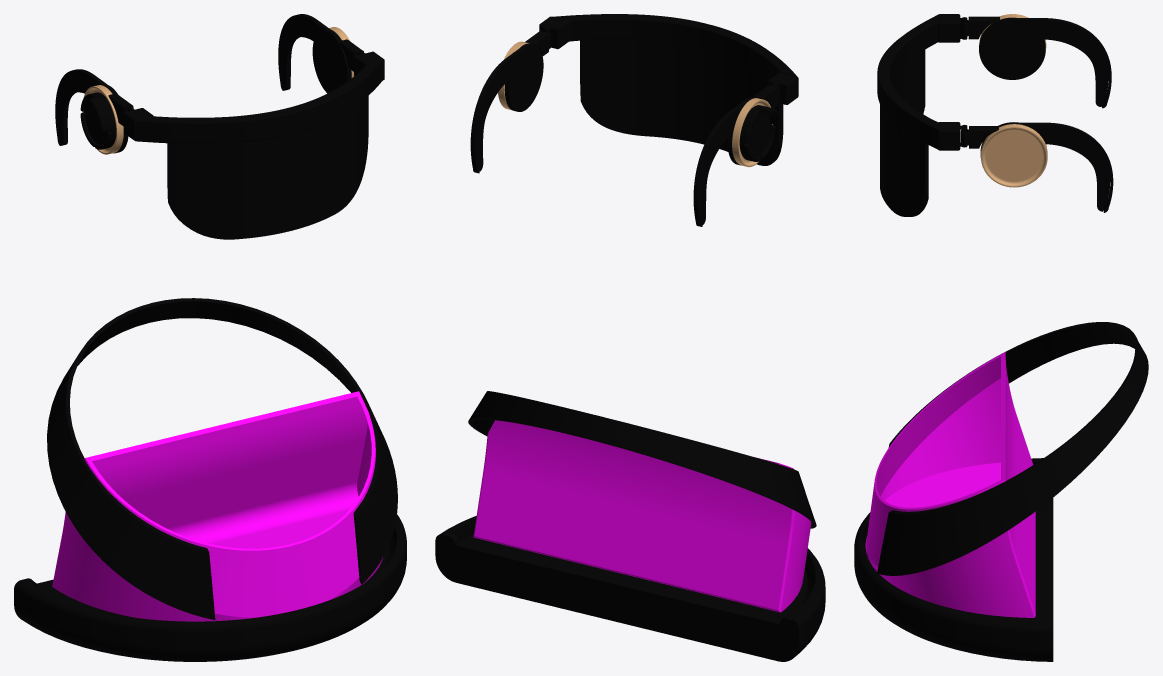
File: Position.glb
The picture shows the model from 3 angles, left to right: view 1: azimuth 30°, elevation 25°; view 2: azimuth 150°, elevation 25°; view 3: azimuth 270°, elevation 25°; orthographic projection. The views are drawn at different scales.
Visible parts, largest first — view 1: Recess(93EA466E-76ED-4497-8DD2-DC9EE28DEFDC), Circle(48C72C58-2843-4086-B1C4-9AD403E86B9D), Visor(F46359D1-3A03-4F06-86E0-AD8CA291662B), Base(F24A9A87-33AC-4DAC-9F74-06F11ED7CB6B), Frame(901472B5-F3E3-4CA0-ACE4-C1DEC0D0175B), Hook(BB2D23D6-5C75-414D-B4D9-A2534A7E2595), Hook(AC767EF7-36E8-47AD-91CE-390286561FB7), Padding(55F92BBA-3FA5-4974-A3C4-1A050CFF2A2B), Padding(F493D06C-EA97-4AE0-B4CB-ECDF65379033), UI_handle(E003D4E5-C9AF-44C9-8223-BCC0273ED70E), UI_frame(22C7A8AA-89CB-4834-A695-0EA211E8F5C3); view 2: Recess(93EA466E-76ED-4497-8DD2-DC9EE28DEFDC), Base(F24A9A87-33AC-4DAC-9F74-06F11ED7CB6B), Visor(F46359D1-3A03-4F06-86E0-AD8CA291662B), Circle(48C72C58-2843-4086-B1C4-9AD403E86B9D), Frame(901472B5-F3E3-4CA0-ACE4-C1DEC0D0175B), Hook(BB2D23D6-5C75-414D-B4D9-A2534A7E2595), Hook(AC767EF7-36E8-47AD-91CE-390286561FB7), UI_handle(E003D4E5-C9AF-44C9-8223-BCC0273ED70E), UI_frame(22C7A8AA-89CB-4834-A695-0EA211E8F5C3), UI_screen(0D7ABA6A-1DF7-40E4-BDED-8E9292BF28E9), Padding(F493D06C-EA97-4AE0-B4CB-ECDF65379033), Padding(55F92BBA-3FA5-4974-A3C4-1A050CFF2A2B); view 3: Recess(93EA466E-76ED-4497-8DD2-DC9EE28DEFDC), Circle(48C72C58-2843-4086-B1C4-9AD403E86B9D), Base(F24A9A87-33AC-4DAC-9F74-06F11ED7CB6B), Visor(F46359D1-3A03-4F06-86E0-AD8CA291662B), Frame(901472B5-F3E3-4CA0-ACE4-C1DEC0D0175B), Hook(AC767EF7-36E8-47AD-91CE-390286561FB7), UI_frame(3E457CC0-70AE-49CF-ACC5-E6AD292F110B), Hook(BB2D23D6-5C75-414D-B4D9-A2534A7E2595), Padding(F493D06C-EA97-4AE0-B4CB-ECDF65379033), Padding(55F92BBA-3FA5-4974-A3C4-1A050CFF2A2B), Hook(23E9B219-0125-4E2A-BB02-2A49ACC30528), Hook(5E3CC680-7300-47B7-B143-B78EE9BBFE5B).
Part boxes in pixels (bbox=[...]): Recess(93EA466E-76ED-4497-8DD2-DC9EE28DEFDC): bbox=[52, 391, 383, 621]; Circle(48C72C58-2843-4086-B1C4-9AD403E86B9D): bbox=[47, 298, 397, 619]; Visor(F46359D1-3A03-4F06-86E0-AD8CA291662B): bbox=[167, 96, 368, 239]; Base(F24A9A87-33AC-4DAC-9F74-06F11ED7CB6B): bbox=[14, 514, 406, 661]; Frame(901472B5-F3E3-4CA0-ACE4-C1DEC0D0175B): bbox=[123, 50, 384, 143]; Hook(BB2D23D6-5C75-414D-B4D9-A2534A7E2595): bbox=[278, 14, 351, 93]; Hook(AC767EF7-36E8-47AD-91CE-390286561FB7): bbox=[55, 69, 128, 153]; Padding(55F92BBA-3FA5-4974-A3C4-1A050CFF2A2B): bbox=[280, 28, 315, 90]; Padding(F493D06C-EA97-4AE0-B4CB-ECDF65379033): bbox=[57, 83, 87, 145]; UI_handle(E003D4E5-C9AF-44C9-8223-BCC0273ED70E): bbox=[80, 92, 116, 149]; UI_frame(22C7A8AA-89CB-4834-A695-0EA211E8F5C3): bbox=[82, 85, 123, 154]; Recess(93EA466E-76ED-4497-8DD2-DC9EE28DEFDC): bbox=[473, 420, 811, 612]; Base(F24A9A87-33AC-4DAC-9F74-06F11ED7CB6B): bbox=[435, 516, 825, 661]; Visor(F46359D1-3A03-4F06-86E0-AD8CA291662B): bbox=[580, 39, 783, 165]; Circle(48C72C58-2843-4086-B1C4-9AD403E86B9D): bbox=[468, 391, 816, 528]; Frame(901472B5-F3E3-4CA0-ACE4-C1DEC0D0175B): bbox=[539, 14, 798, 104]; Hook(BB2D23D6-5C75-414D-B4D9-A2534A7E2595): bbox=[470, 43, 543, 173]; Hook(AC767EF7-36E8-47AD-91CE-390286561FB7): bbox=[693, 97, 754, 226]; UI_handle(E003D4E5-C9AF-44C9-8223-BCC0273ED70E): bbox=[739, 105, 775, 161]; UI_frame(22C7A8AA-89CB-4834-A695-0EA211E8F5C3): bbox=[732, 98, 772, 167]; UI_screen(0D7ABA6A-1DF7-40E4-BDED-8E9292BF28E9): bbox=[745, 113, 770, 155]; Padding(F493D06C-EA97-4AE0-B4CB-ECDF65379033): bbox=[699, 126, 734, 224]; Padding(55F92BBA-3FA5-4974-A3C4-1A050CFF2A2B): bbox=[476, 72, 511, 171]; Recess(93EA466E-76ED-4497-8DD2-DC9EE28DEFDC): bbox=[865, 352, 1035, 617]; Circle(48C72C58-2843-4086-B1C4-9AD403E86B9D): bbox=[877, 322, 1148, 575]; Base(F24A9A87-33AC-4DAC-9F74-06F11ED7CB6B): bbox=[854, 458, 1053, 661]; Visor(F46359D1-3A03-4F06-86E0-AD8CA291662B): bbox=[880, 50, 928, 216]; Frame(901472B5-F3E3-4CA0-ACE4-C1DEC0D0175B): bbox=[877, 14, 967, 150]; Hook(AC767EF7-36E8-47AD-91CE-390286561FB7): bbox=[979, 17, 1111, 108]; UI_frame(3E457CC0-70AE-49CF-ACC5-E6AD292F110B): bbox=[981, 124, 1047, 187]; Hook(BB2D23D6-5C75-414D-B4D9-A2534A7E2595): bbox=[980, 122, 1113, 212]; Padding(F493D06C-EA97-4AE0-B4CB-ECDF65379033): bbox=[1040, 33, 1108, 106]; Padding(55F92BBA-3FA5-4974-A3C4-1A050CFF2A2B): bbox=[1042, 138, 1109, 211]; Hook(23E9B219-0125-4E2A-BB02-2A49ACC30528): bbox=[960, 16, 999, 39]; Hook(5E3CC680-7300-47B7-B143-B78EE9BBFE5B): bbox=[960, 126, 999, 148].
Size of the model in its own units: 0.2622 by 0.3674 by 0.1905.
